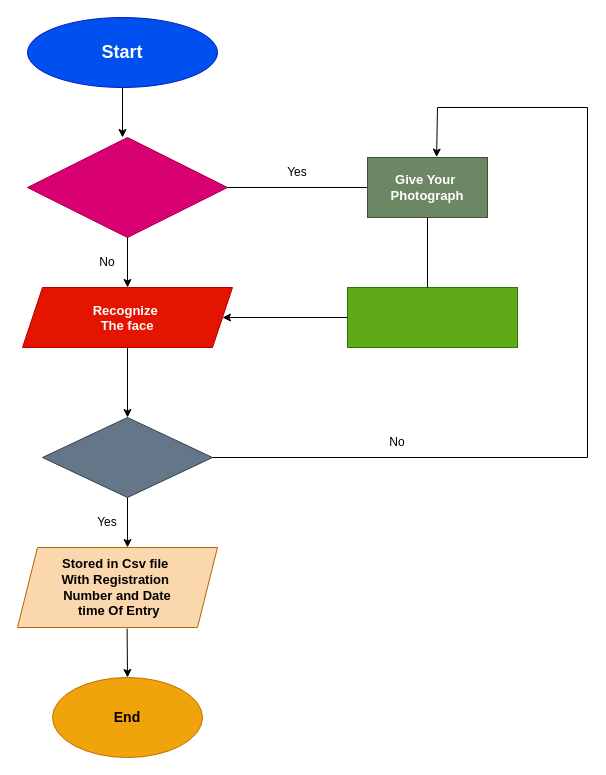
Some shapes in this 606 by 775 pixel diagram are drawn without their labels. The shapes that lost their labels are listed below. From the top down, each one's centre as x and y in pixels, then its label:
At (x=127, y=187): "New User?".
At (x=432, y=317): "Store the face data in folder on your name".
At (x=127, y=457): "Face Recognized".
